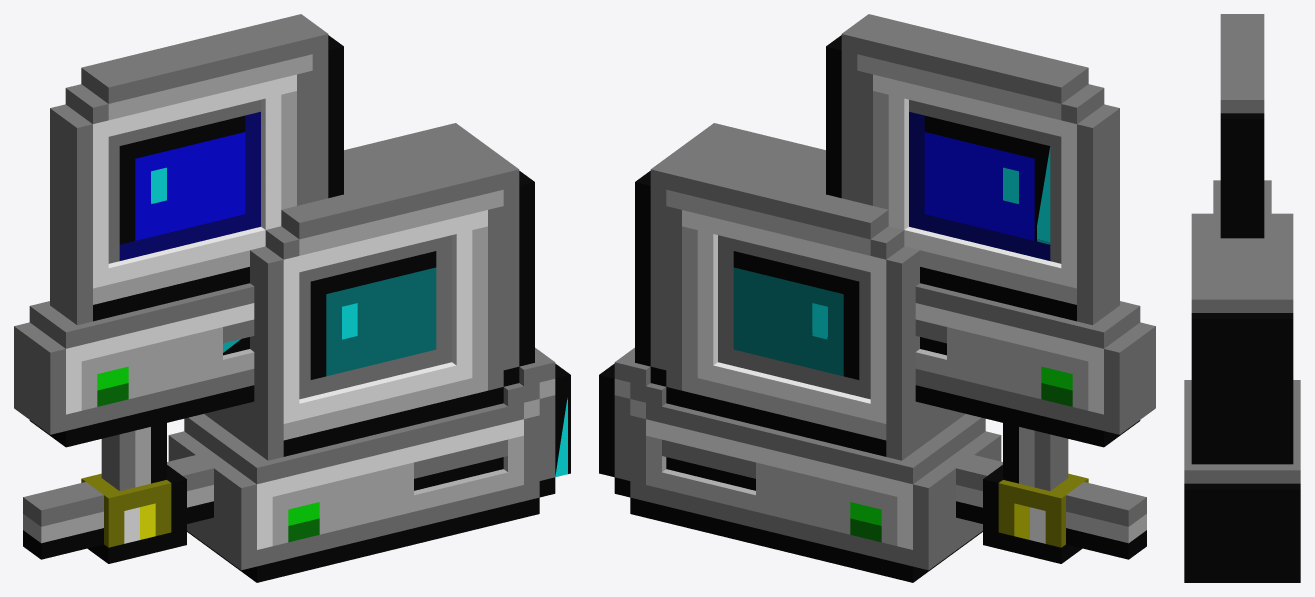
The model's file is webscraping.glb.
The picture shows the model from 3 angles, left to right: view 1: azimuth 30°, elevation 25°; view 2: azimuth 150°, elevation 25°; view 3: azimuth 270°, elevation 25°; orthographic projection. The views are drawn at different scales.
Parts seen in each view (by area): view 1: icon.027; view 2: icon.027; view 3: icon.027.
Boxes of the visible parts, box(x1,y1,x2,y2) form: icon.027: box(14, 14, 570, 582); icon.027: box(599, 14, 1155, 582); icon.027: box(1184, 14, 1300, 582).
Bounding box in the file's own units: 32 × 31 × 8.
Materials: 1 (1 with a texture image).
